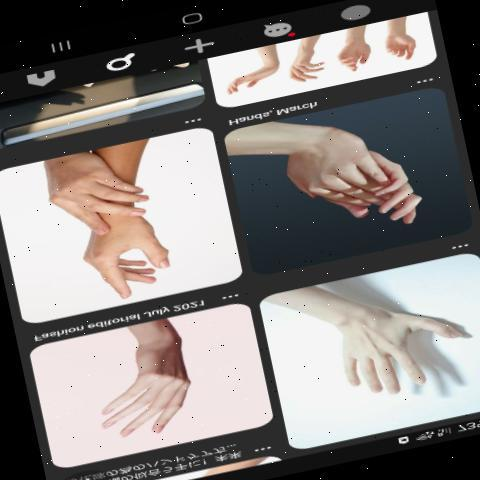Hands: (314, 274, 468, 434), (88, 319, 239, 454), (288, 119, 416, 244), (62, 206, 188, 317), (14, 151, 175, 234), (220, 52, 283, 107), (383, 14, 432, 76), (286, 44, 331, 92), (337, 34, 380, 80)
